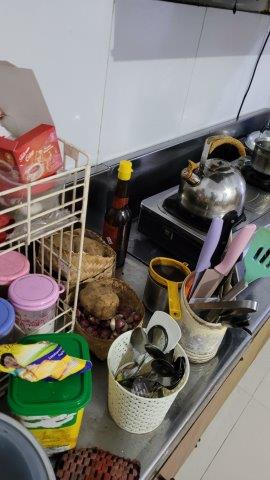botolkaca: (102, 159, 133, 263)
